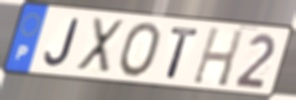2: (233, 31, 278, 91)
H: (190, 25, 247, 89)
J: (43, 17, 82, 69)
O: (116, 20, 162, 79)
T: (165, 25, 202, 81)
X: (73, 16, 127, 77)
